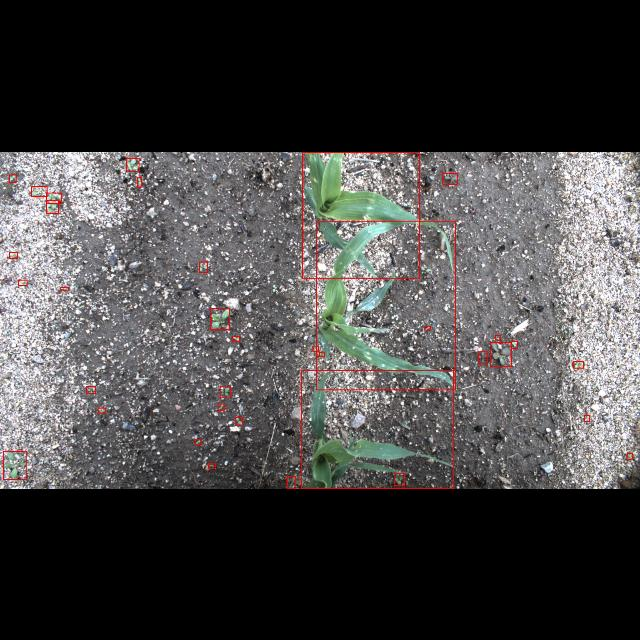crop: (316, 220, 456, 390), (301, 369, 453, 488), (302, 152, 420, 278), (287, 476, 295, 488)
weed: (4, 450, 26, 480), (491, 342, 512, 366), (210, 308, 230, 329), (442, 172, 458, 184), (126, 157, 140, 170), (46, 192, 62, 202), (47, 200, 59, 212), (32, 186, 46, 196), (394, 473, 404, 485), (478, 351, 488, 363), (220, 386, 230, 396), (573, 360, 583, 368), (199, 261, 207, 271), (86, 386, 95, 394), (18, 279, 28, 285), (136, 176, 142, 186), (235, 417, 242, 425), (9, 252, 17, 258), (10, 174, 16, 182), (511, 340, 517, 348), (218, 404, 224, 411), (584, 415, 590, 421), (312, 346, 318, 352), (208, 464, 216, 468), (98, 408, 106, 412), (232, 336, 240, 340), (61, 286, 69, 290), (628, 453, 632, 459), (195, 440, 201, 444), (496, 334, 500, 340), (424, 326, 430, 329), (320, 352, 324, 356)
